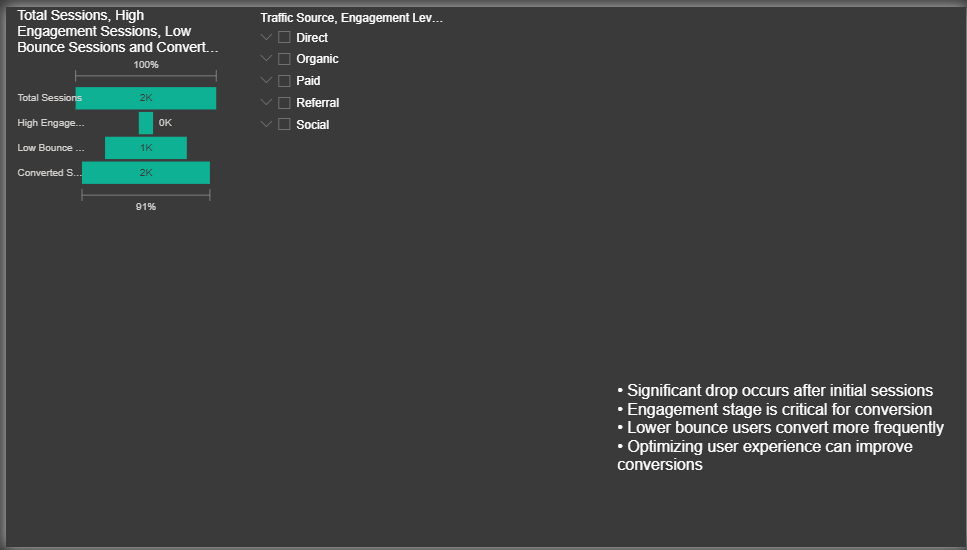

The dashboard page shown, as its layout file describes it:
{"tool":"powerbi","page":{"name":"Conversion Funnel","canvas":[1280,720],"ordinal":3},"visuals":[{"type":"funnel","fields":{"Y":["website_data.Total Sessions","website_data.High Engagement Sessions","website_data.Low Bounce Sessions","website_data.Converted Sessions"]},"box":[10,0,280,280],"z":0},{"type":"slicer","fields":{"Values":["website_data.Traffic Source","website_data.Engagement Level","website_data.Page View Group"]},"box":[326,0,280,222],"z":1000},{"type":"textbox","box":[810,494,470,226],"z":1001}]}

Visuals, with their boxes in screenshot pixels (x1, y1, x2, y2), scaled from the page's 1280x720 canvas onto the 967x550 screenshot:
funnel - website_data.Total Sessions x website_data.High Engagement Sessions: 8/0/219/214
slicer - website_data.Traffic Source x website_data.Engagement Level: 246/0/458/170
textbox: 612/377/966/549
